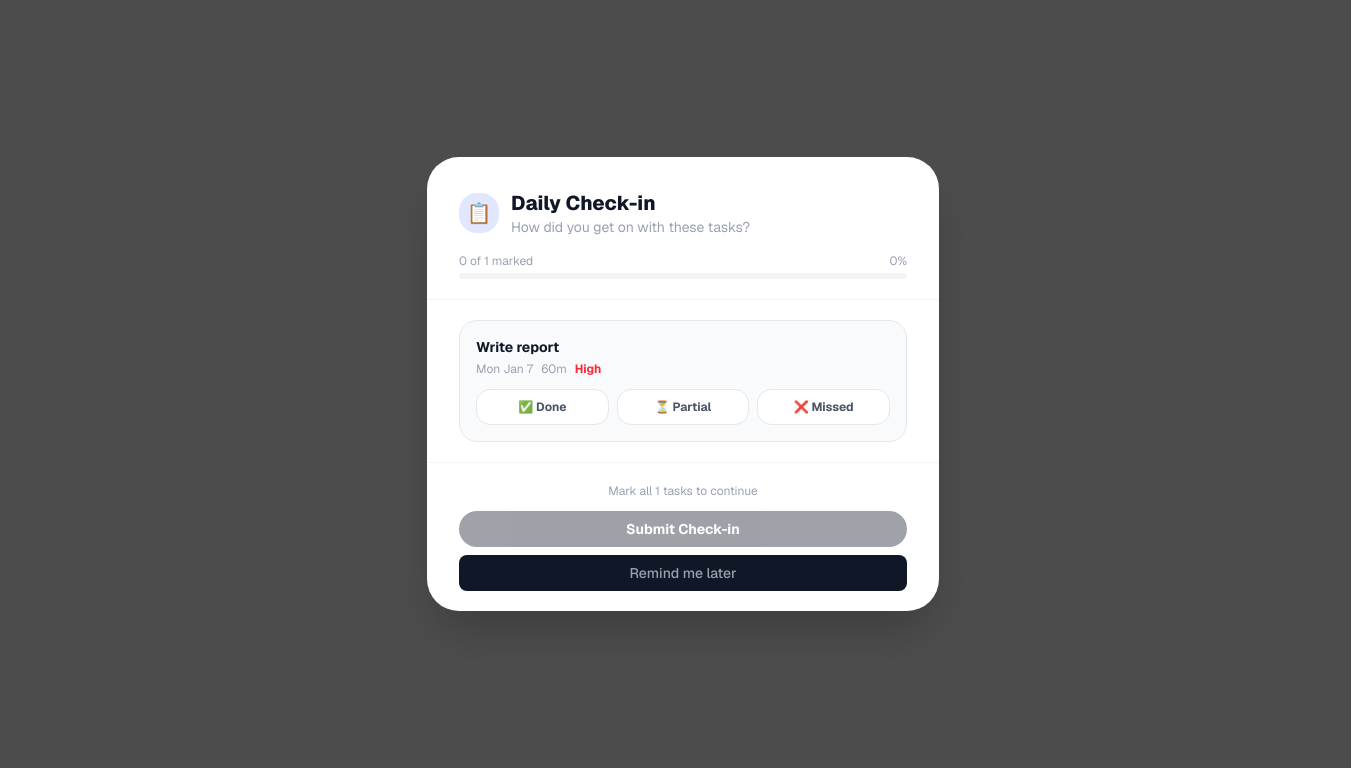
it: CheckInModal — partial progress slider › shows slider when task is marked partial
The image size is (1366, 768).
Click the button "⏳ Partial".
click(683, 407)  # box 617,389 -> 749,425
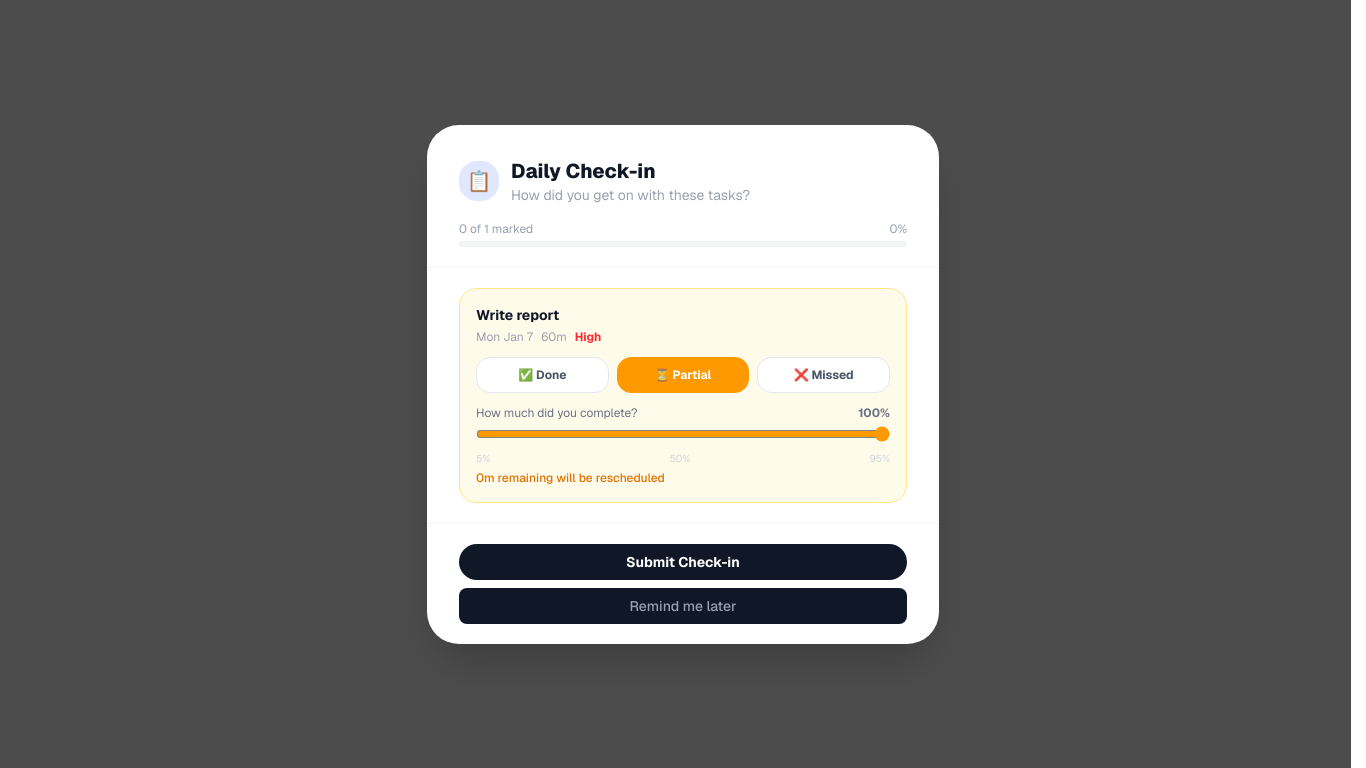
expect the slider is shown: met, box 476,426 -> 890,442
